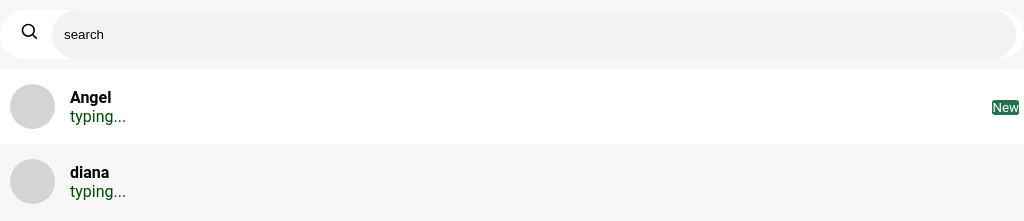
Testing friends component › Should filter the users wich userName contains the 'dia' string
The width and height of the screenshot is (1024, 221).
Expected: the heading "Angel" is shown, [70, 88, 111, 106]
Expected: the heading "diana" is shown, [70, 162, 109, 182]
Type "dia" into the field.
click(534, 34); type("dia")  # box [52, 10, 1016, 59]
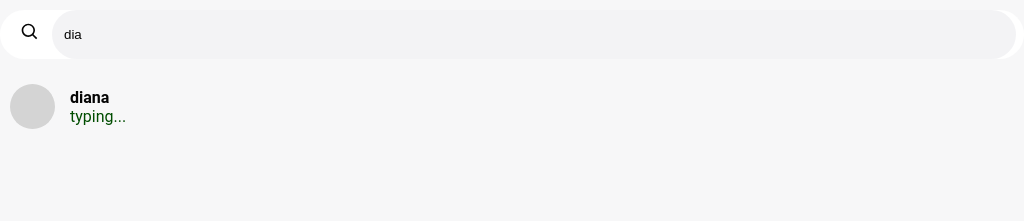
Expected: the heading "diana" is shown, [70, 88, 109, 106]
Expected: the heading "Angel" is gone
